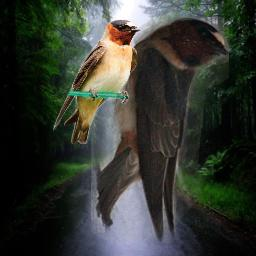Swallow: (91, 17, 229, 243), (53, 19, 141, 144)
